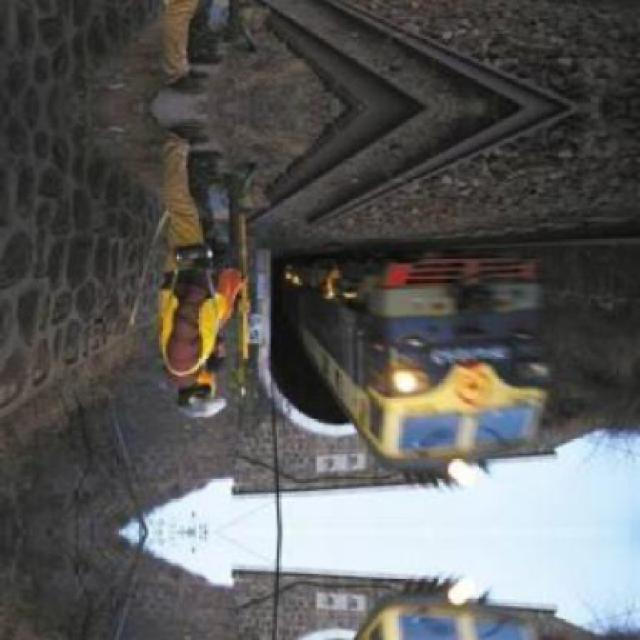con casco: (150, 346, 258, 434)
